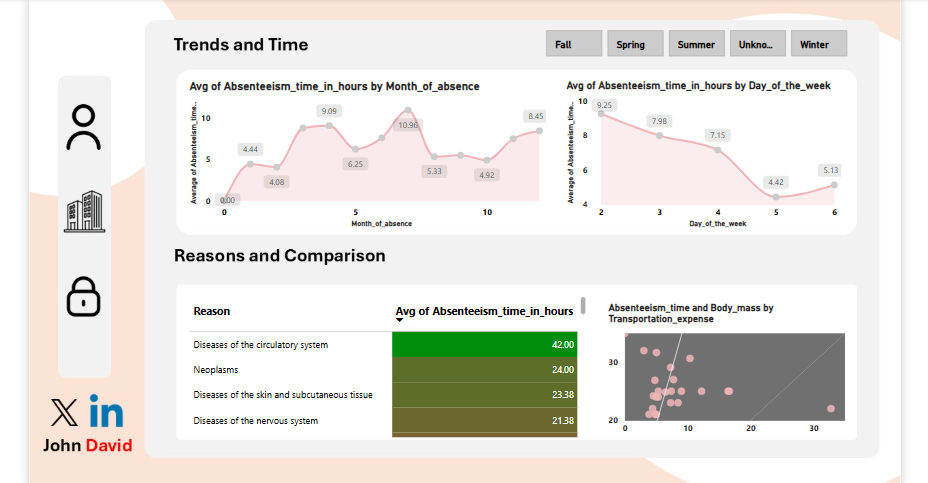

What the dashboard file says about the page in this screenshot:
{"tool":"powerbi","page":{"name":"Trends and Reasons","canvas":[1280,720],"ordinal":1},"visuals":[{"type":"lineChart","title":"Avg of Absenteeism_time_in_hours by Month_of_absence","fields":{"Category":["Query1.Month_of_absence"],"Y":["Avg(Query1.Absenteeism_time_in_hours)"]},"box":[231.3,118.9,534.3,223.2],"z":0},{"type":"lineChart","title":"Avg of Absenteeism_time_in_hours by Day_of_the_week","fields":{"Y":["Avg(Query1.Absenteeism_time_in_hours)"],"Category":["Query1.Day_of_the_week"]},"box":[785.2,118.9,413.8,223.2],"z":1000},{"type":"tableEx","fields":{"Values":["Query1.Reason","Avg(Query1.Absenteeism_time_in_hours)"]},"box":[231.3,433.3,592.9,216.7],"z":2000},{"type":"scatterChart","title":"Absenteeism_time and Body_mass by Transportation_expense","fields":{"Category":["Query1.Transportation_expense"],"X":["Avg(Query1.Absenteeism_time_in_hours)"],"Y":["Avg(Query1.Body_mass_index)"]},"box":[847.1,446.3,364.9,203.6],"z":3000},{"type":"advancedSlicerVisual","fields":{"Values":["Query1.Season Break"]},"box":[755.8,42.4,456.1,48.9],"z":4000},{"type":"actionButton","box":[47.2,148.2,65.2,86.3],"z":5000},{"type":"actionButton","box":[47.2,273.7,65.2,86.3],"z":6000}]}

Visuals, with their boxes on the page's 1280x720 design canvas (x1, y1, x2, y2). These are canvas units, not pixel positions in the 928x483 screenshot, which may show the page scaled, cropped or inside an application window:
"Avg of Absenteeism_time_in_hours by Month_of_absence" lineChart: (231,119,766,342)
"Avg of Absenteeism_time_in_hours by Day_of_the_week" lineChart: (785,119,1199,342)
tableEx - Query1.Reason x Avg(Query1.Absenteeism_time_in_hours): (231,433,824,650)
"Absenteeism_time and Body_mass by Transportation_expense" scatterChart: (847,446,1212,650)
advancedSlicerVisual - Query1.Season Break: (756,42,1212,91)
actionButton: (47,148,112,234)
actionButton: (47,274,112,360)
